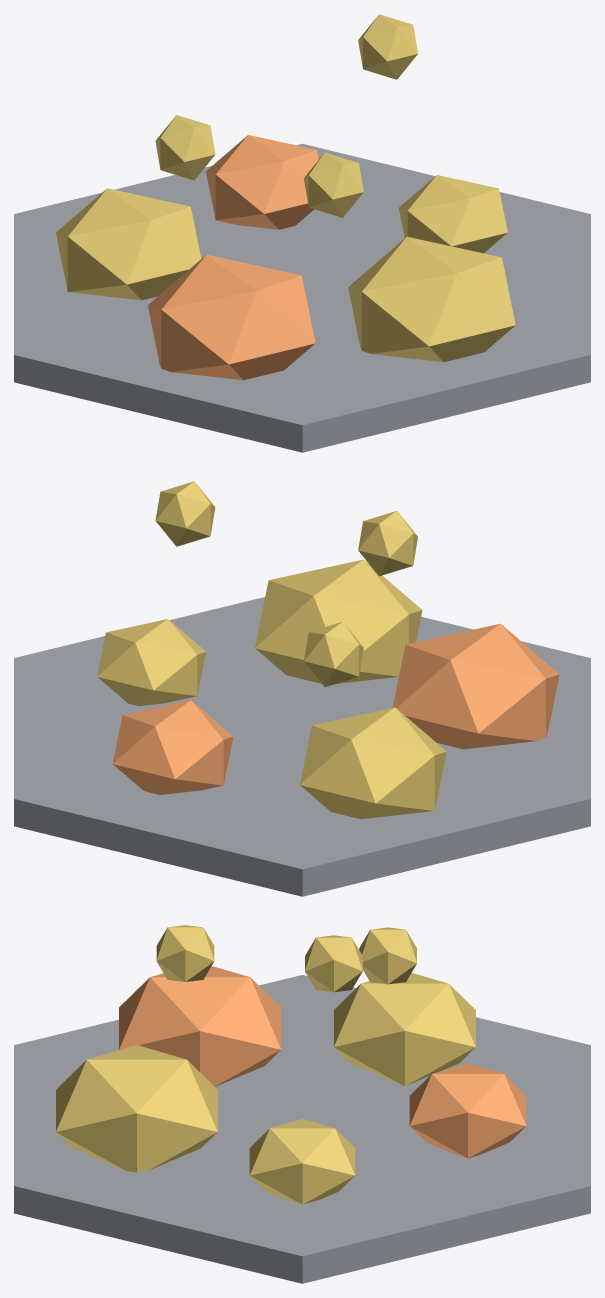
File: animprop_campfire_ember_03.glb
3 renders of one model, top to bottom at view 1: azimuth 30°, elevation 25°; view 2: azimuth 150°, elevation 25°; view 3: azimuth 270°, elevation 25°, orthographic.
Visible parts, largest first — view 1: animprop; view 2: animprop; view 3: animprop.
Part boxes in pixels (x1,y1,x2,y2): animprop: (14, 14, 590, 452); animprop: (14, 481, 590, 896); animprop: (14, 925, 590, 1283).
Size of the model in its own units: 0.88 by 0.3716 by 0.7621.
